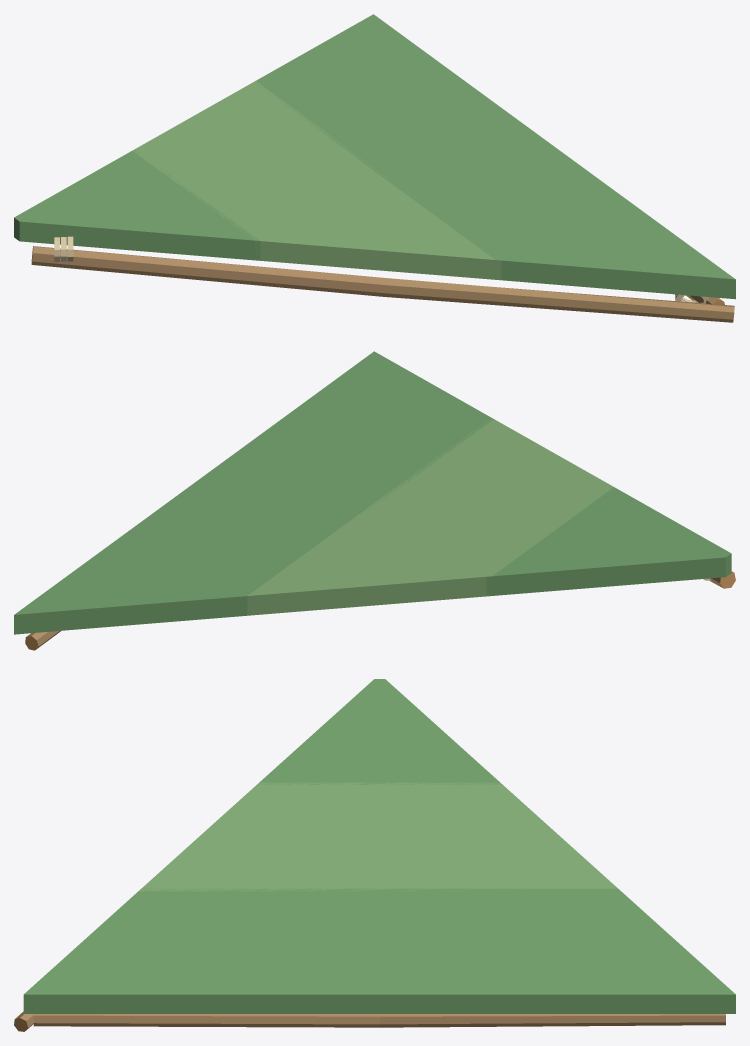
The model's file is architecture.roof.palm.fbx.
3 views of the same model, one above another, from view 1: azimuth 30°, elevation 25°; view 2: azimuth 150°, elevation 25°; view 3: azimuth 270°, elevation 25° (orthographic).
Parts seen in each view (by area): view 1: ROOF_thatch_2, ROOF_thatch_1, ROOF_thatch_0, ROOF_rafter, ROOF_rope; view 2: ROOF_thatch_2, ROOF_thatch_1, ROOF_thatch_0; view 3: ROOF_thatch_2, ROOF_thatch_1, ROOF_thatch_0, ROOF_eave_beam.
Part boxes in pixels (x1=…): ROOF_thatch_2: x1=254, y1=14, x2=735, y2=299; ROOF_thatch_1: x1=132, y1=81, x2=501, y2=280; ROOF_thatch_0: x1=14, y1=150, x2=260, y2=260; ROOF_rafter: x1=31, y1=246, x2=734, y2=322; ROOF_rope: x1=54, y1=236, x2=708, y2=303; ROOF_thatch_2: x1=14, y1=351, x2=493, y2=634; ROOF_thatch_1: x1=247, y1=418, x2=613, y2=615; ROOF_thatch_0: x1=486, y1=486, x2=731, y2=596; ROOF_thatch_2: x1=23, y1=888, x2=735, y2=1013; ROOF_thatch_1: x1=139, y1=782, x2=617, y2=891; ROOF_thatch_0: x1=258, y1=679, x2=502, y2=784; ROOF_eave_beam: x1=33, y1=1014, x2=725, y2=1027.
Size of the model in its own units: 1.28 by 0.2239 by 1.51.
